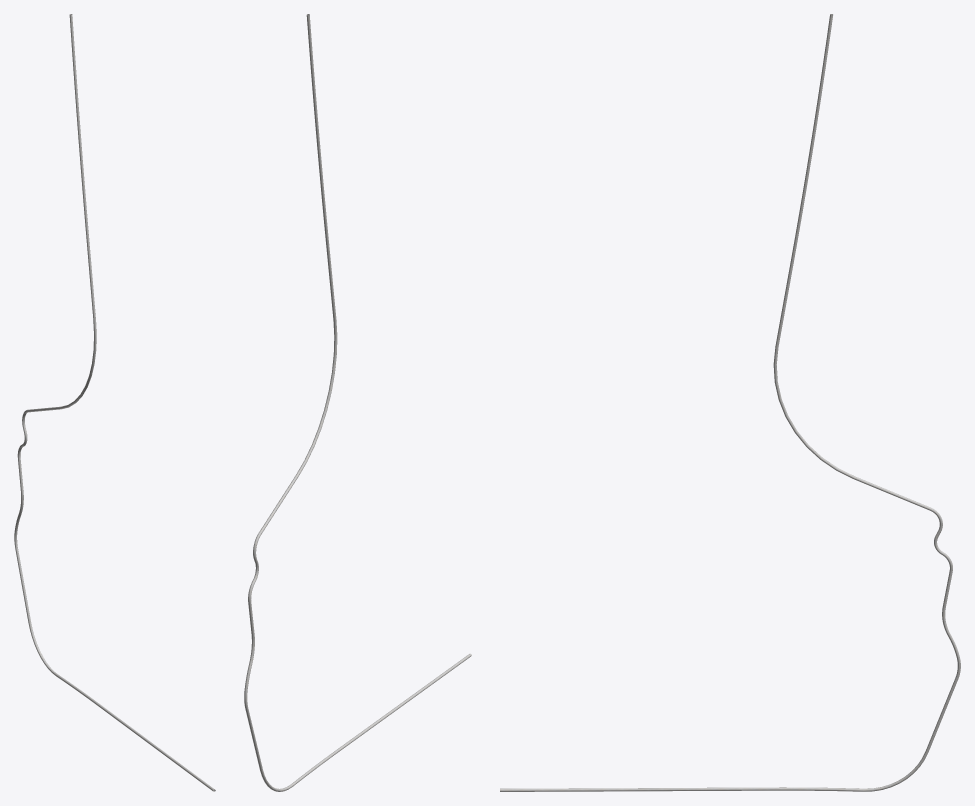
Rendered from Pipe__6.fbx.
The picture shows the model from 3 angles, left to right: view 1: azimuth 30°, elevation 25°; view 2: azimuth 150°, elevation 25°; view 3: azimuth 270°, elevation 25°; orthographic projection. The views are drawn at different scales.
Parts seen in each view (by area): view 1: Pipe_Red; view 2: Pipe_Red; view 3: Pipe_Red.
Part boxes in pixels (box(x1,y1,x2,y2)): Pipe_Red: box(14, 14, 215, 791); Pipe_Red: box(244, 14, 471, 791); Pipe_Red: box(500, 14, 960, 791).
Bounding box in the file's own units: 0.08 × 21.58 × 11.59.
1 material, 1 textured.
